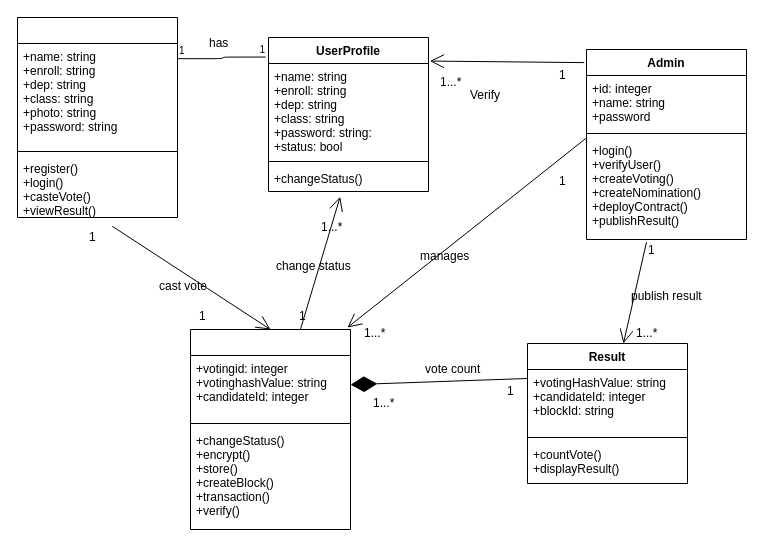
The diagram is 764 pixels wide and 550 high, and some of its shapes have lost their labels. Here are the shapes that lost their labels. From the top down, the box of each, then its label:
(16, 16, 178, 218): User
(190, 328, 350, 530): Voting Process
